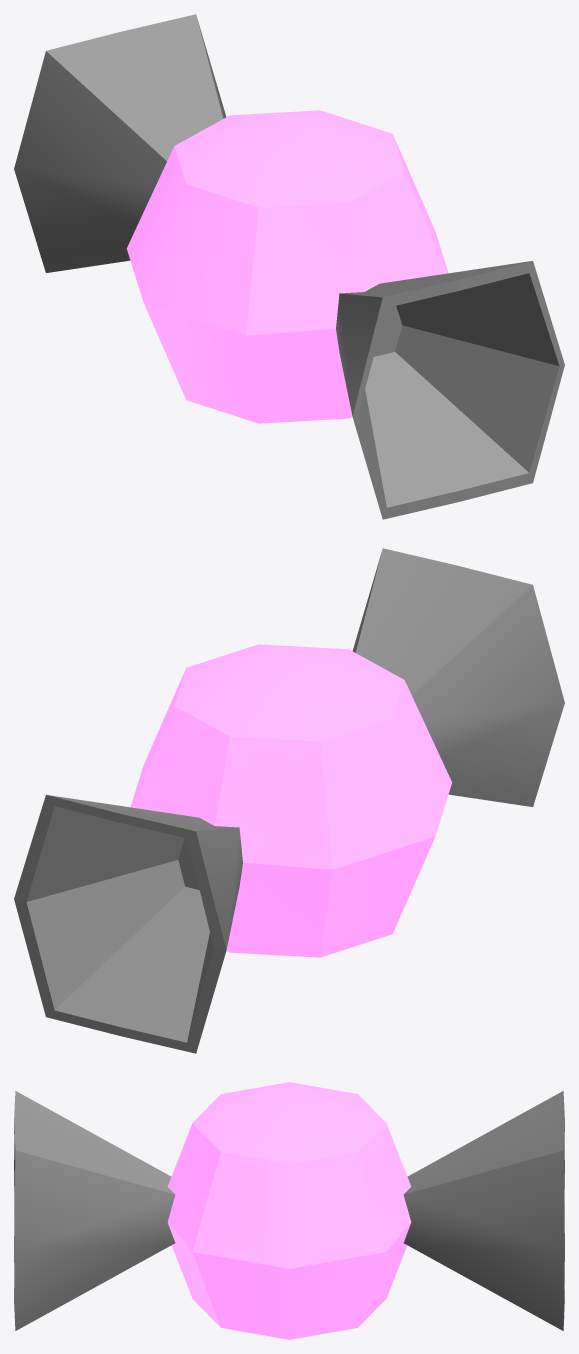
Rendered from Candy_Fixed.fbx.
The picture shows the model from 3 angles, top to bottom: view 1: azimuth 30°, elevation 25°; view 2: azimuth 150°, elevation 25°; view 3: azimuth 270°, elevation 25°; orthographic projection. The views are drawn at different scales.
Parts seen in each view (by area): view 1: Sphere009; view 2: Sphere009; view 3: Sphere009.
Part boxes in pixels (x1,y1,x2,y2): Sphere009: (14,14,564,519); Sphere009: (14,548,564,1053); Sphere009: (14,1082,564,1339).
Size of the model in its own units: 0.4224 by 0.8485 by 0.4224.
